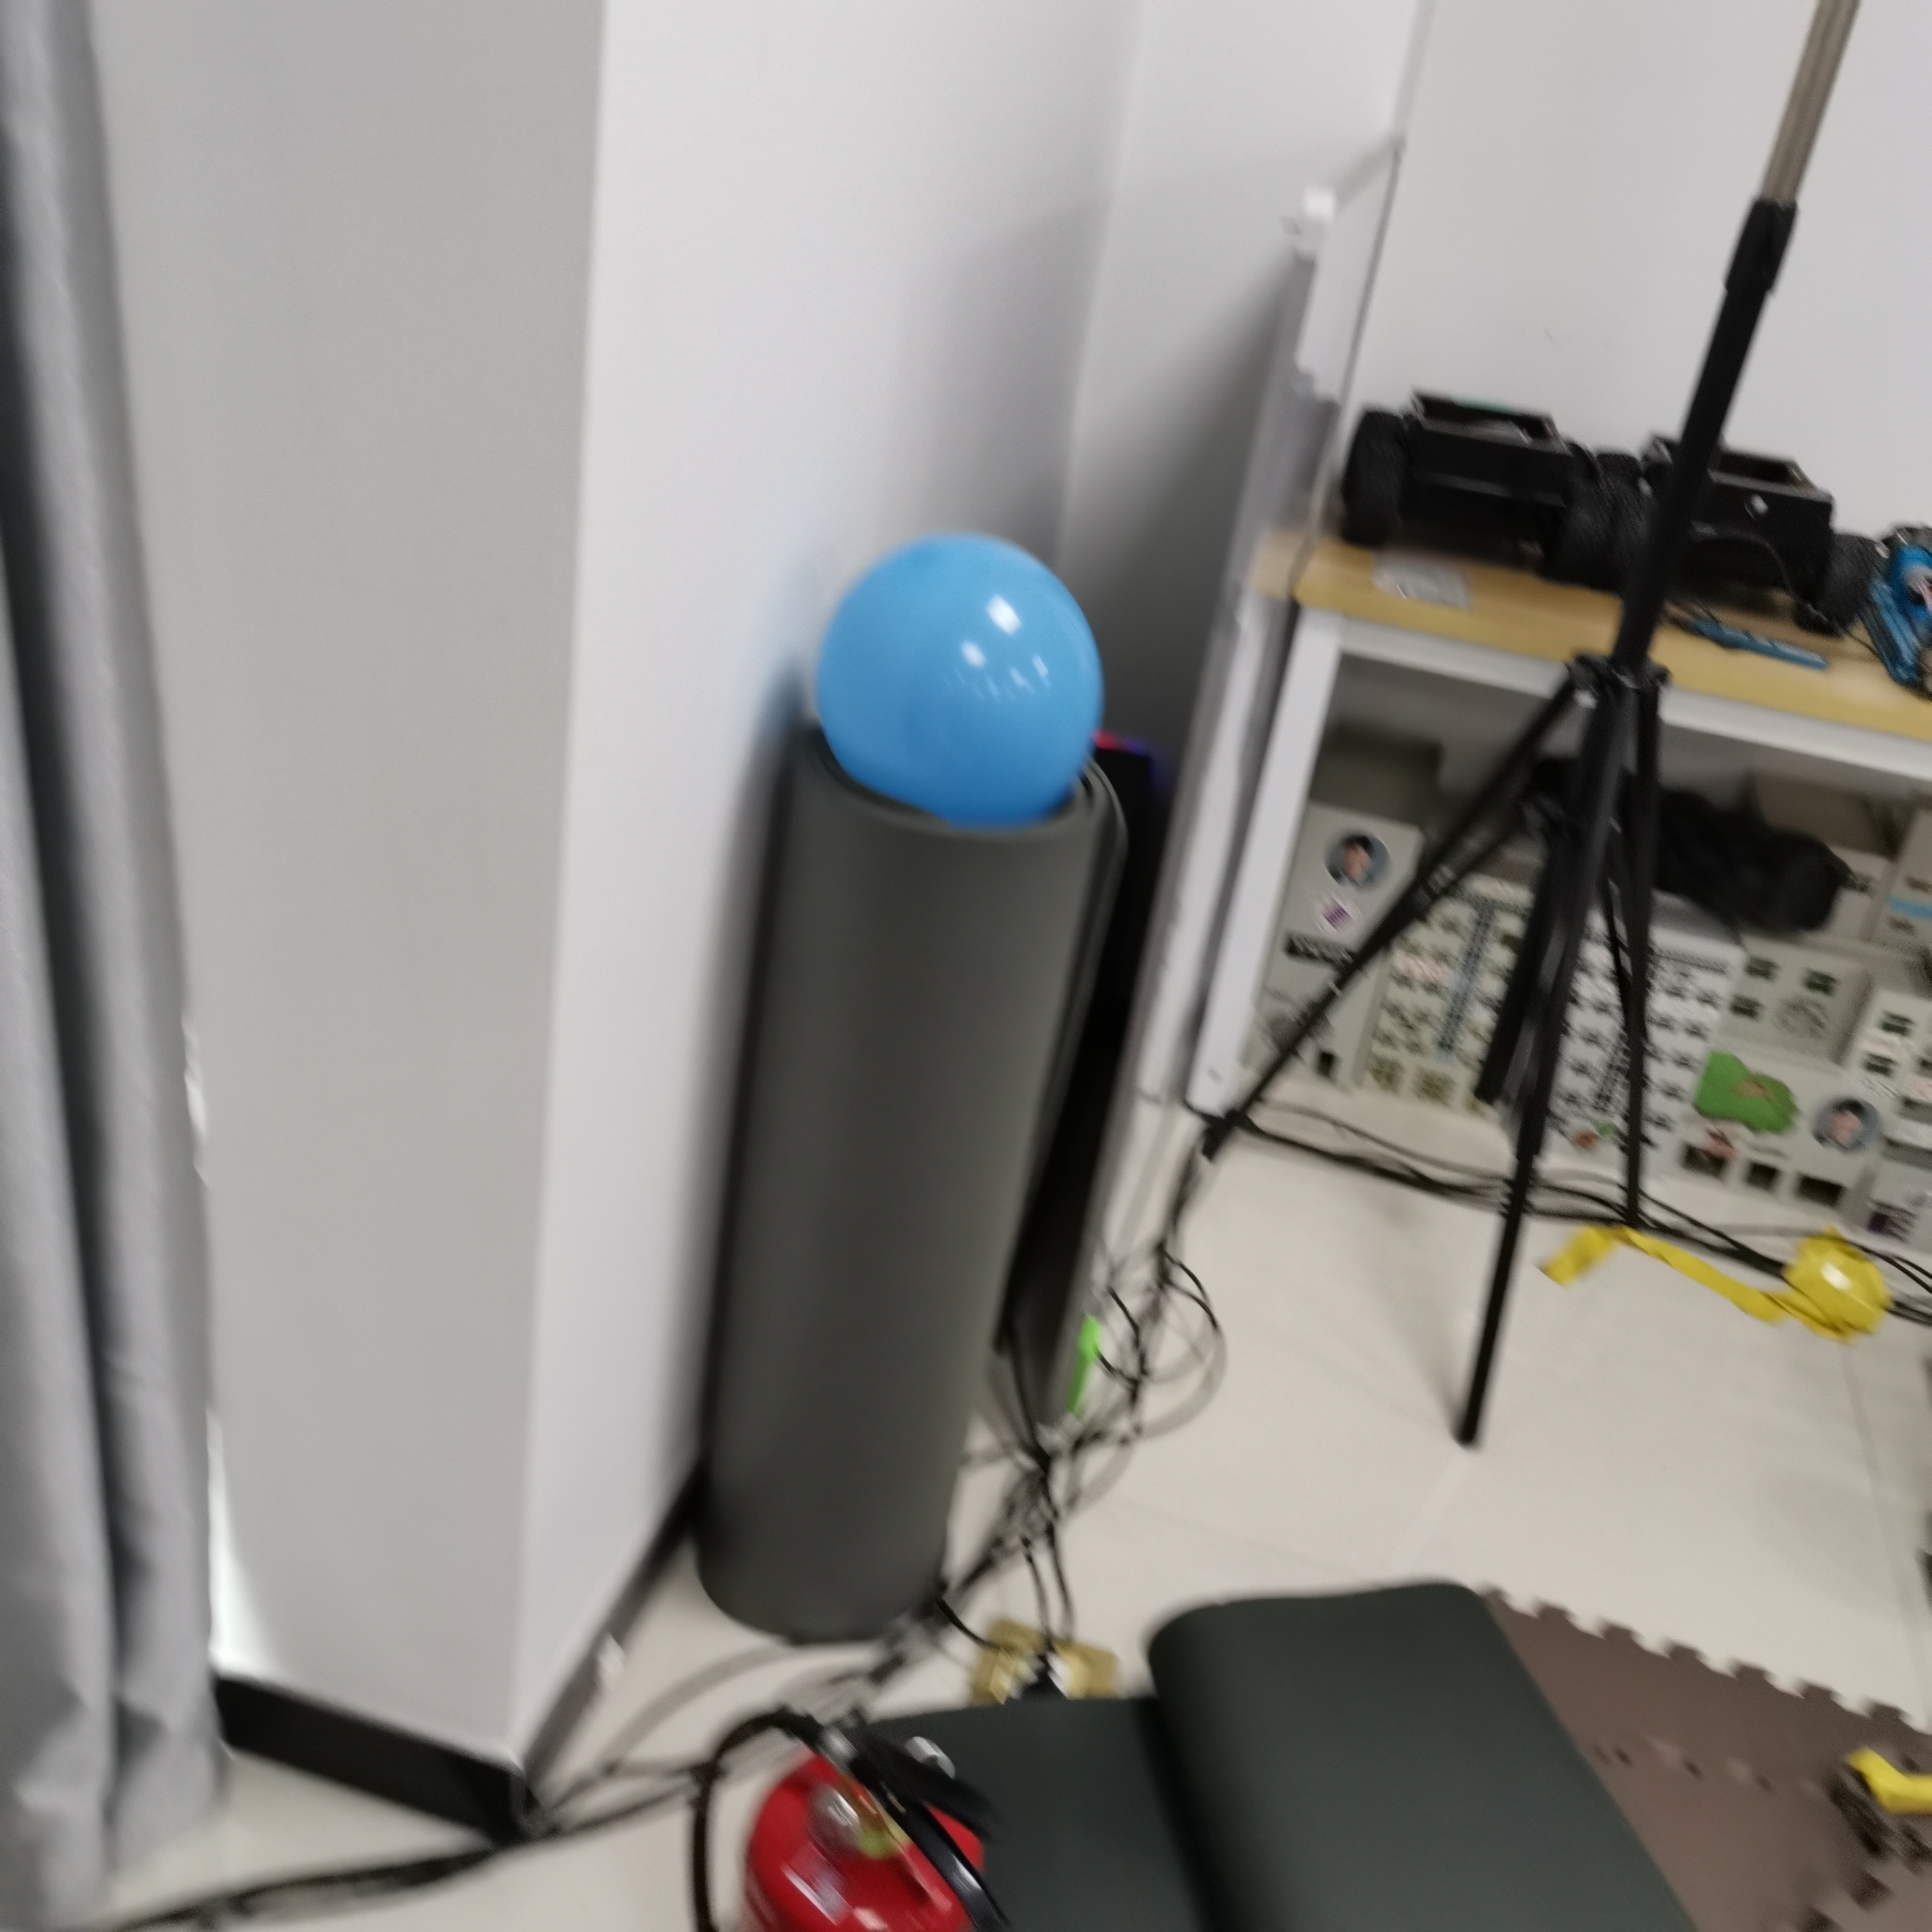balloon: (816, 536, 1109, 821)
